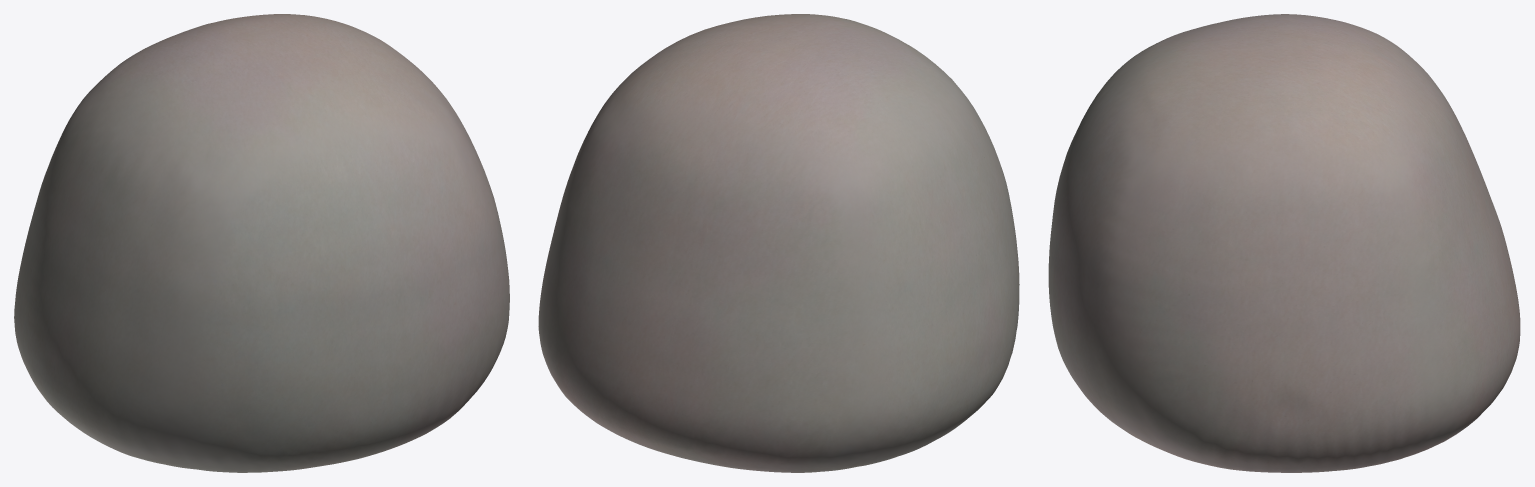
File: RockProp.glb
3 views of the same model, side by side, from view 1: azimuth 30°, elevation 25°; view 2: azimuth 150°, elevation 25°; view 3: azimuth 270°, elevation 25° (orthographic). The views are drawn at different scales.
Parts seen in each view (by area): view 1: texture_mapping; view 2: texture_mapping; view 3: texture_mapping.
Part boxes in pixels (left/top/right/bottom): texture_mapping: left=14, top=14, right=509, bottom=472; texture_mapping: left=538, top=14, right=1019, bottom=472; texture_mapping: left=1048, top=14, right=1520, bottom=472.
Bounding box in the file's own units: 1 × 0.8346 × 0.9913.
Materials: 1 (1 with a texture image).
